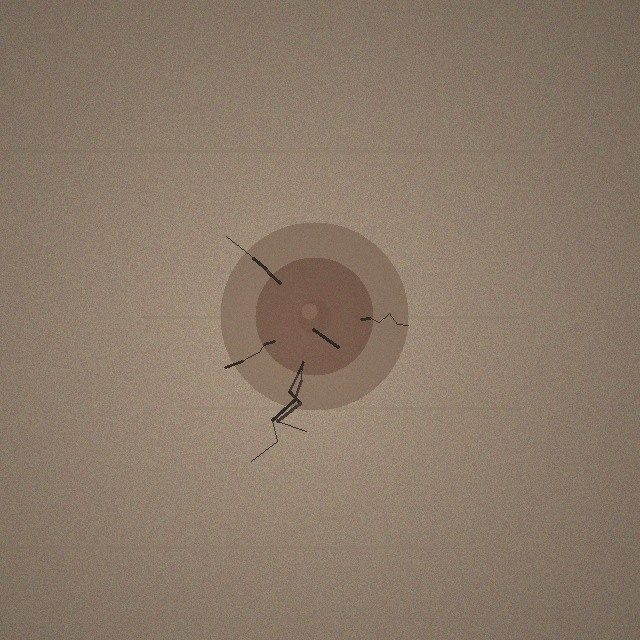crack: (220, 222, 408, 410)
